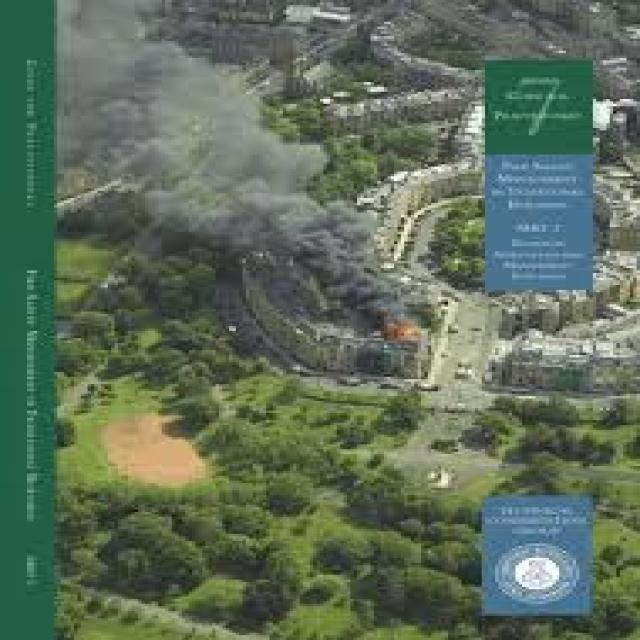Smoke: (55, 0, 436, 322)
